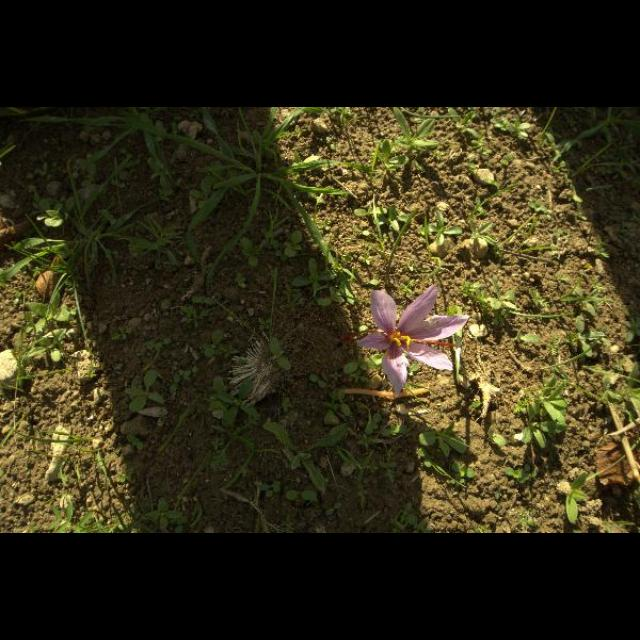flower: (340, 285, 470, 395)
